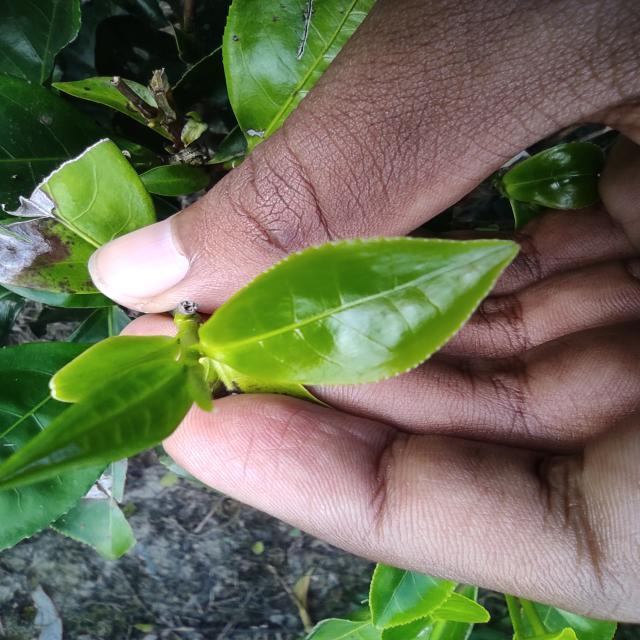Category B(2-4 days): (186, 223, 528, 403)
